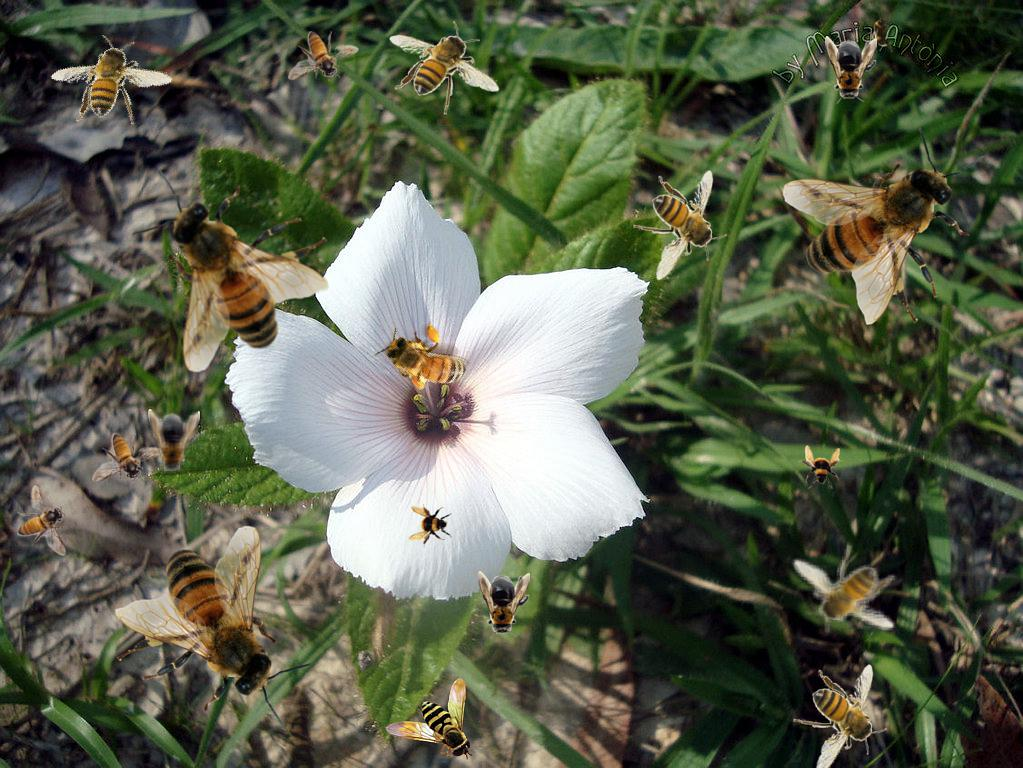Bee: (782, 126, 986, 325), (115, 525, 314, 729), (130, 169, 329, 373), (43, 16, 184, 148), (782, 535, 907, 645), (369, 306, 483, 421), (389, 21, 500, 115), (633, 170, 727, 281), (793, 664, 887, 768), (385, 678, 473, 760), (288, 31, 359, 81), (17, 485, 67, 556), (92, 433, 163, 483), (148, 409, 200, 477), (478, 571, 530, 639), (825, 36, 877, 104), (798, 445, 842, 489), (408, 504, 452, 548), (871, 12, 893, 52)
